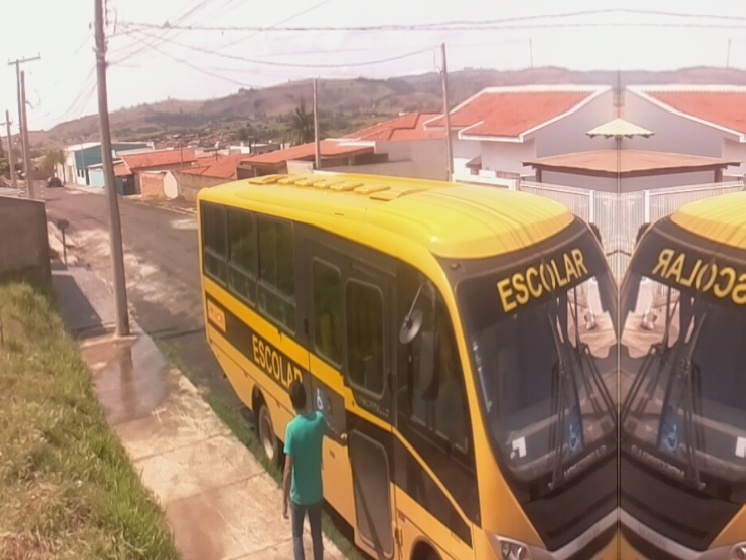person: (280, 380, 349, 560)
